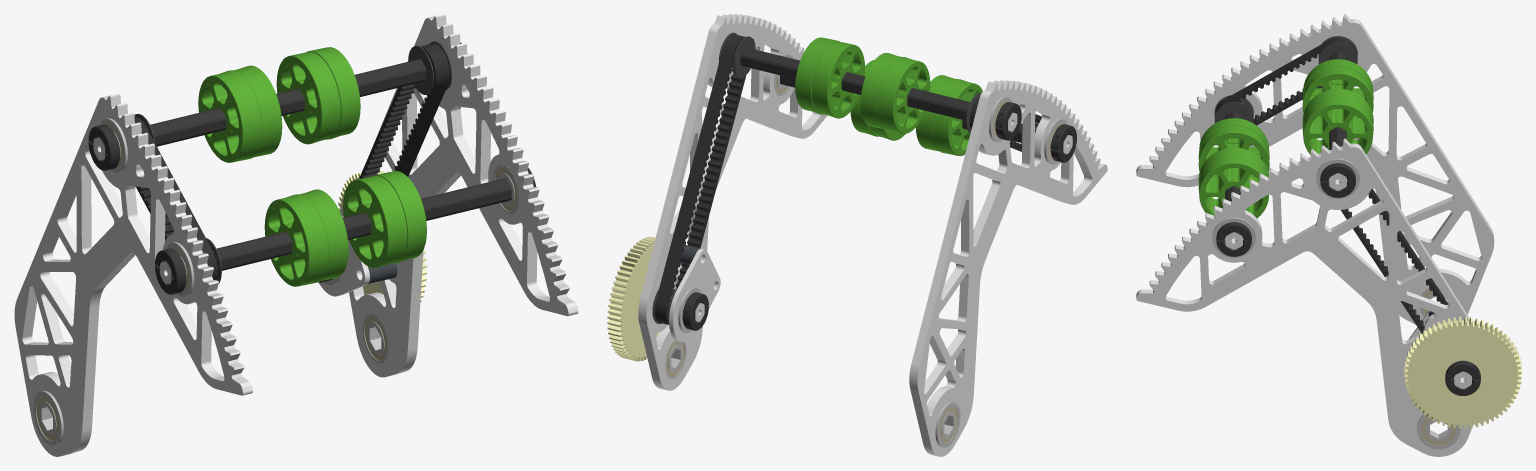
3 renders of one model, left to right at view 1: azimuth 30°, elevation 25°; view 2: azimuth 150°, elevation 25°; view 3: azimuth 270°, elevation 25°, orthographic. The views are drawn at different scales.
Parts seen in each view (by area): view 1: Part 2, 2" Compliant Wheel (35A, 3/4" Wide, 1/2" Hex Stretch Bore) (×8), Part 4, 1/2" Rounded Hex (9.145" L, 13.75mm OD) (×2), 85T 5M 9mm Wide Belt, 1/2" Hex Bore Bearing (1.125" OD, 0.313" WD, Shielded, Flang (×4), 1/2" Hex Clamping Shaft Collar (×2), 50T 5M 9mm Wide Belt, Part 14, 15t 9mm Pulley, 64t Aluminum Spur Gear; view 2: Part 2, Part 4, 2" Compliant Wheel (35A, 3/4" Wide, 1/2" Hex Stretch Bore) (×6), 85T 5M 9mm Wide Belt, 64t Aluminum Spur Gear, 1/2" Rounded Hex (9.145" L, 13.75mm OD), 1/2" Hex Clamping Shaft Collar (×3), Part 14, 1/2" Hex Bore Bearing (1.125" OD, 0.313" WD, Shielded, Flang (×2), 15t 9mm Pulley; view 3: Part 4, Part 2, 2" Compliant Wheel (35A, 3/4" Wide, 1/2" Hex Stretch Bore) (×8), 64t Aluminum Spur Gear, 1/2" Hex Clamping Shaft Collar (×3), 1/2" Hex Bore Bearing (1.125" OD, 0.313" WD, Shielded, Flang (×3), 50T 5M 9mm Wide Belt, 85T 5M 9mm Wide Belt, 15t 9mm Pulley (×2), 1/2" Rounded Hex (9.145" L, 13.75mm OD) (×2).
Boxes of the visible parts, x1=… form: Part 2: x1=14, y1=93, x2=252, y2=456; 2" Compliant Wheel (35A, 3/4" Wide, 1/2" Hex Stretch Bore) (×8): x1=198, y1=47, x2=426, y2=286; Part 4: x1=349, y1=14, x2=578, y2=377; 1/2" Rounded Hex (9.145" L, 13.75mm OD) (×2): x1=93, y1=59, x2=511, y2=284; 85T 5M 9mm Wide Belt: x1=359, y1=43, x2=449, y2=178; 1/2" Hex Bore Bearing (1.125" OD, 0.313" WD, Shielded, Flang (×4): x1=33, y1=164, x2=518, y2=445; 1/2" Hex Clamping Shaft Collar (×2): x1=88, y1=124, x2=186, y2=294; 50T 5M 9mm Wide Belt: x1=134, y1=116, x2=217, y2=279; Part 14: x1=318, y1=209, x2=369, y2=296; 15t 9mm Pulley: x1=408, y1=41, x2=452, y2=94; 64t Aluminum Spur Gear: x1=338, y1=170, x2=426, y2=301; Part 2: x1=909, y1=80, x2=1107, y2=456; Part 4: x1=638, y1=14, x2=827, y2=390; 2" Compliant Wheel (35A, 3/4" Wide, 1/2" Hex Stretch Bore) (×6): x1=795, y1=37, x2=982, y2=155; 85T 5M 9mm Wide Belt: x1=654, y1=34, x2=746, y2=324; 64t Aluminum Spur Gear: x1=607, y1=236, x2=658, y2=361; 1/2" Rounded Hex (9.145" L, 13.75mm OD): x1=740, y1=47, x2=1017, y2=131; 1/2" Hex Clamping Shaft Collar (×3): x1=682, y1=102, x2=1076, y2=330; Part 14: x1=669, y1=248, x2=720, y2=342; 1/2" Hex Bore Bearing (1.125" OD, 0.313" WD, Shielded, Flang (×2): x1=665, y1=340, x2=960, y2=447; 15t 9mm Pulley: x1=719, y1=32, x2=755, y2=77; Part 4: x1=1136, y1=138, x2=1473, y2=456; Part 2: x1=1136, y1=14, x2=1494, y2=324; 2" Compliant Wheel (35A, 3/4" Wide, 1/2" Hex Stretch Bore) (×8): x1=1198, y1=59, x2=1373, y2=218; 64t Aluminum Spur Gear: x1=1404, y1=316, x2=1521, y2=428; 1/2" Hex Clamping Shaft Collar (×3): x1=1216, y1=163, x2=1480, y2=395; 1/2" Hex Bore Bearing (1.125" OD, 0.313" WD, Shielded, Flang (×3): x1=1212, y1=158, x2=1460, y2=449; 50T 5M 9mm Wide Belt: x1=1216, y1=38, x2=1356, y2=125; 85T 5M 9mm Wide Belt: x1=1341, y1=188, x2=1448, y2=333; 15t 9mm Pulley (×2): x1=1214, y1=36, x2=1357, y2=123; 1/2" Rounded Hex (9.145" L, 13.75mm OD) (×2): x1=1225, y1=52, x2=1346, y2=249.
Size of the model in its own units: 0.2465 by 0.2478 by 0.2751.
